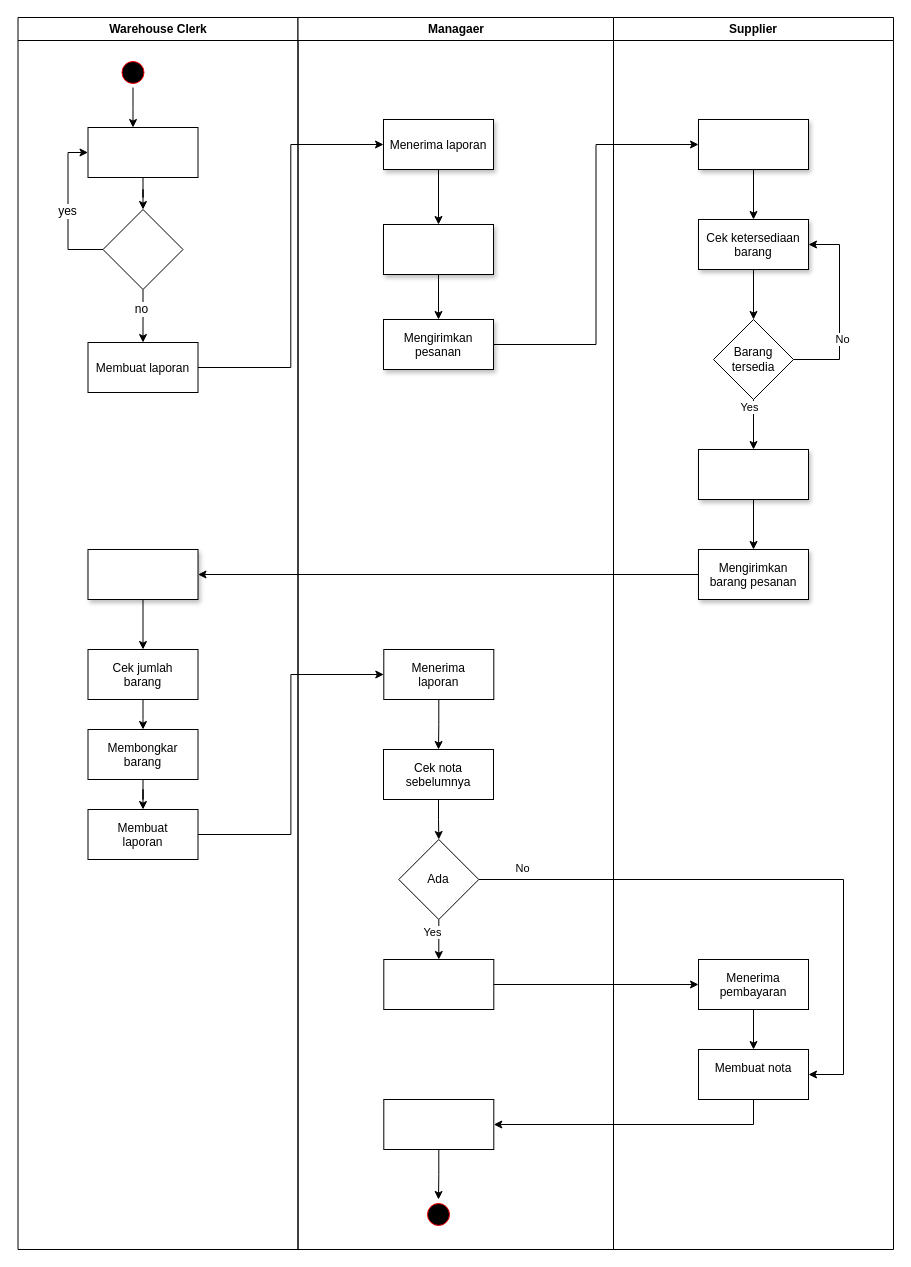
Image size: 911x1267. Some labels were removed from this diagram. The shapes that lost their labels are listed below. From the top down, each one's centre as x and y in pixels, then its label:
At point (142, 152): "Cek Stock".
At point (754, 145): "Menerima pemesanan".
At point (142, 249): "Barang Cukup".
At point (439, 251): "Membuat pesanan".
At point (754, 475): "Menyiapkan pesanan".
At point (143, 575): "Menerima barang".
At point (438, 984): "Membayar nota sebelumnya".
At point (438, 1124): "Tanda tangan nota".
